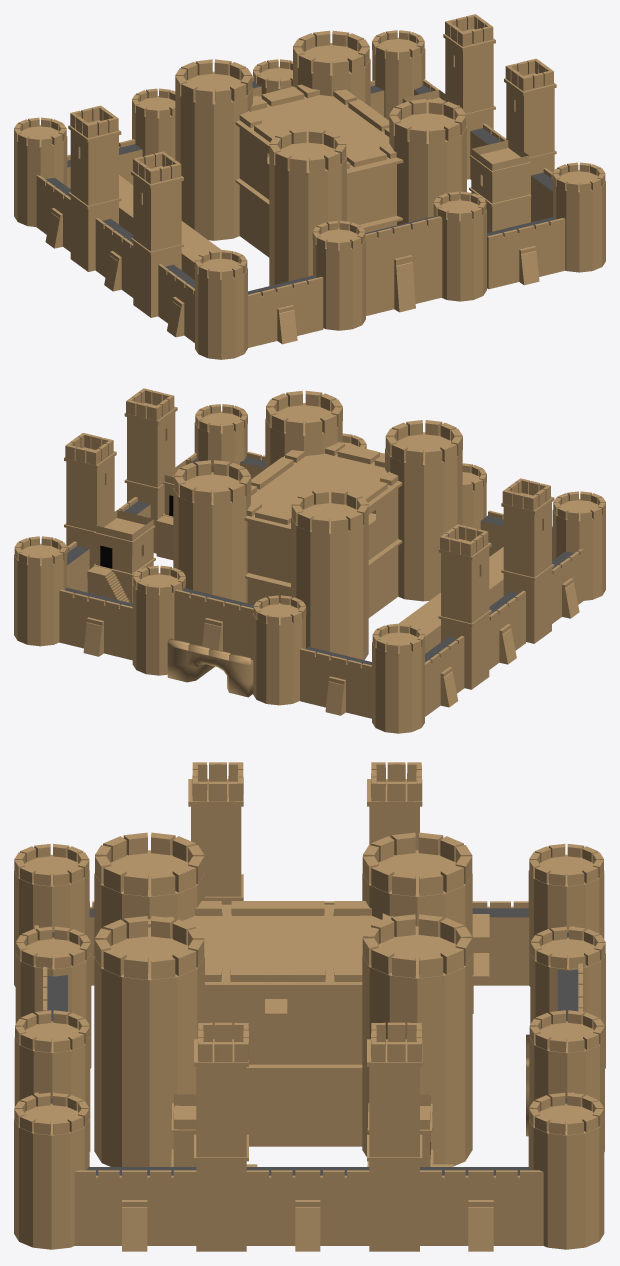
The picture shows the model from 3 angles, top to bottom: view 1: azimuth 30°, elevation 25°; view 2: azimuth 150°, elevation 25°; view 3: azimuth 270°, elevation 25°; orthographic projection. The views are drawn at different scales.
Parts seen in each view (by area): view 1: Cube.017; view 2: Cube.017; view 3: Cube.017.
Boxes of the visible parts, <box> form: Cube.017: <box>14,14,605,359</box>; Cube.017: <box>14,388,605,733</box>; Cube.017: <box>14,762,605,1251</box>.
Size of the model in its own units: 53.31 by 18.7 by 46.98.
